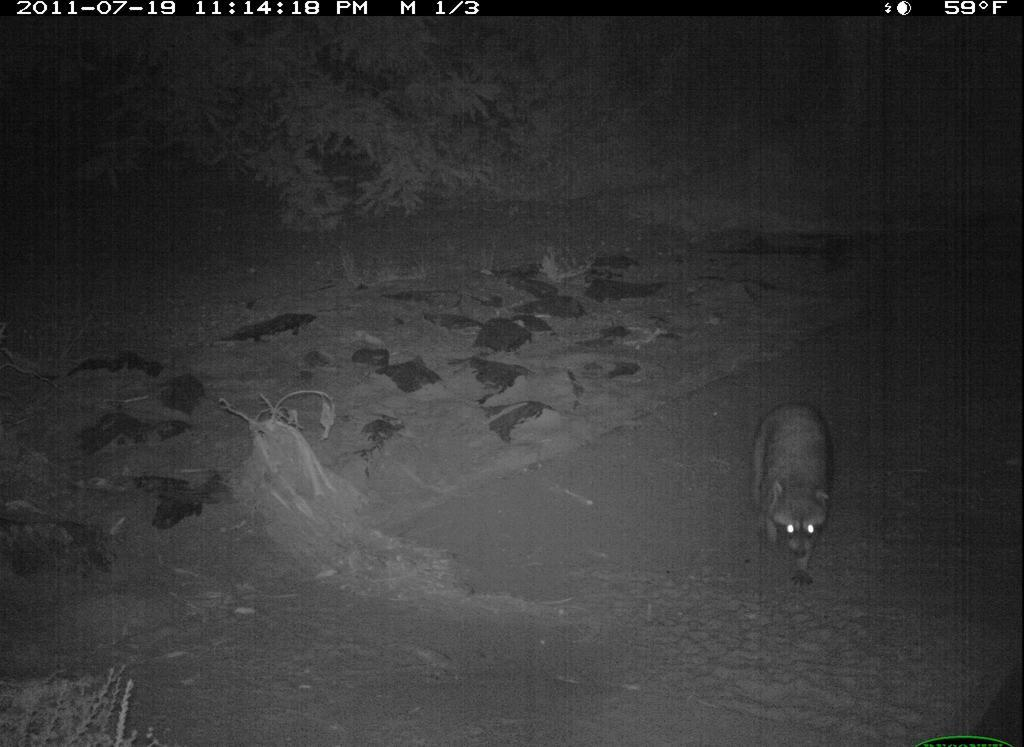raccoon: (735, 369, 843, 593)
